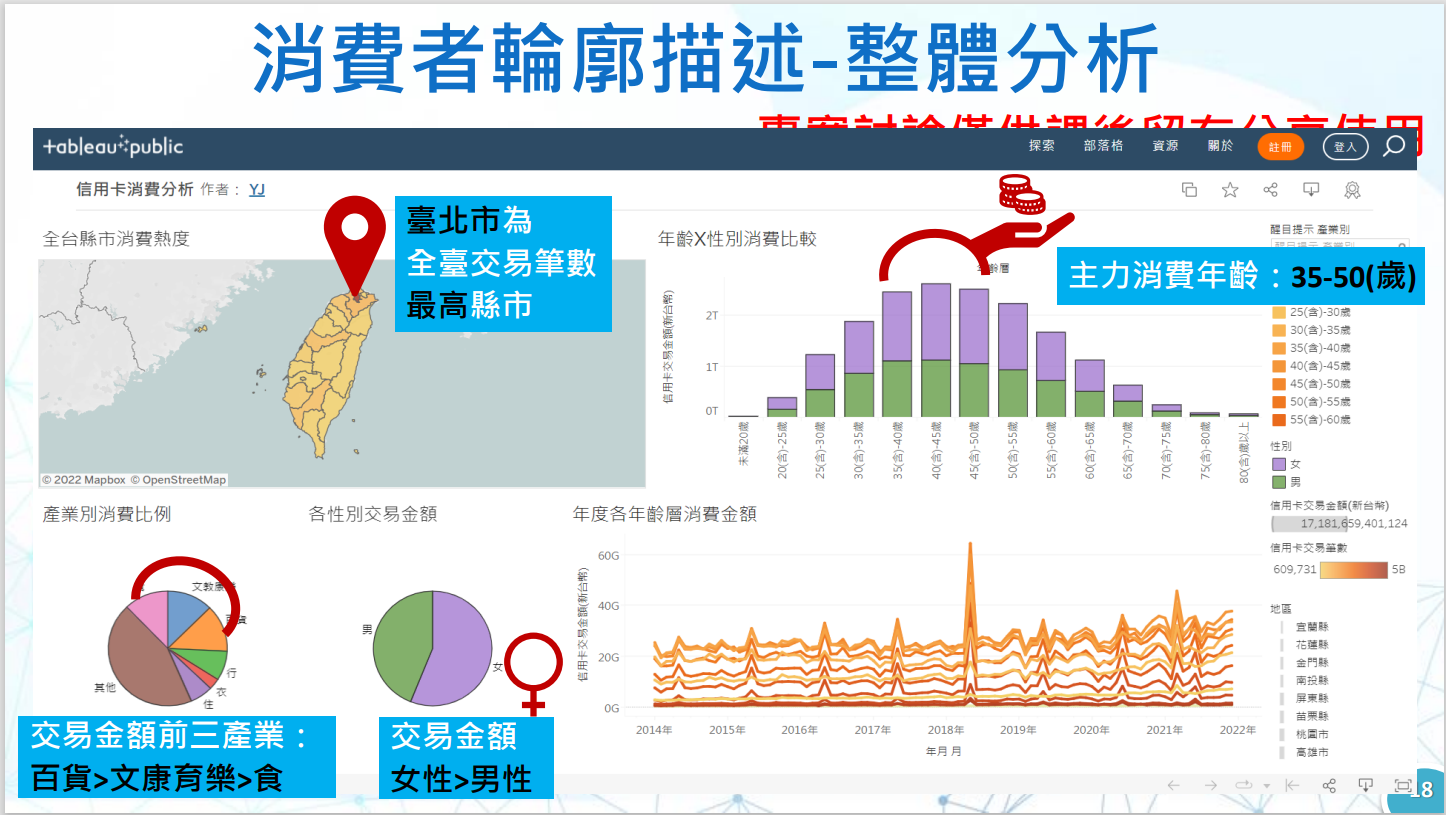

This screenshot's page, from the dashboard's own definition file:
{"tool":"tableau","page":{"name":"儀表板窗格 1","canvas":[1000,1000],"units":"permille","ordinal":0},"visuals":[{"type":"worksheet","title":"全台縣市消費熱度","mark":"Multipolygon","box":[4.8,9.4,446.9,490.6]},{"type":"worksheet","title":"年齡X性別消費比較","mark":"Automatic","rows":["信用卡交易金額(新台幣)"],"cols":["年齡層"],"box":[451.7,9.4,446.9,490.6]},{"type":"highlighter","title":"產業別消費比例","param":"[federated.0g2oetc1v2s88r16os5ns0wi0wuw].[none:產業別:nk]","box":[898.6,9.4,96.6,65.7]},{"type":"legend","title":"年度各年齡層消費金額","param":"[federated.0g2oetc1v2s88r16os5ns0wi0wuw].[none:年齡層:nk]","box":[898.6,75.1,96.6,342.7]},{"type":"legend","title":"年齡X性別消費比較","param":"[federated.0g2oetc1v2s88r16os5ns0wi0wuw].[none:性別:nk]","box":[898.6,417.8,96.6,84.5]},{"type":"worksheet","title":"產業別消費比例","mark":"Pie","box":[4.8,500,192.8,490.6]},{"type":"worksheet","title":"各性別交易金額","mark":"Pie","box":[197.6,500,192.2,490.6]},{"type":"worksheet","title":"年度各年齡層消費金額","mark":"Automatic","rows":["信用卡交易金額(新台幣)"],"cols":["年月"],"box":[389.8,500,508.8,490.6]},{"type":"legend","title":"各性別交易金額","param":"[federated.0g2oetc1v2s88r16os5ns0wi0wuw].[sum:信用卡交易金額(新台幣):qk]","box":[898.6,502.4,96.6,59.9]},{"type":"legend","title":"全台縣市消費熱度","param":"[federated.0g2oetc1v2s88r16os5ns0wi0wuw].[sum:信用卡交易金額(新台幣):qk]","box":[898.6,562.2,96.6,85.7]},{"type":"legend","title":"全台縣市消費熱度","param":"[federated.0g2oetc1v2s88r16os5ns0wi0wuw].[none:地區:nk]","box":[898.6,647.9,96.6,342.7]}]}

Visuals, with their boxes on the dashboard's canvas, which has no fixed pixel size, in thousandths of its width and height (x1, y1, x2, y2). These are canvas units, not pixel positions in the 1446x815 screenshot, which may show the page scaled, cropped or inside an application window:
"全台縣市消費熱度" worksheet (Multipolygon marks): pyautogui.locateOnScreen(5, 9, 452, 500)
"年齡X性別消費比較" worksheet: pyautogui.locateOnScreen(452, 9, 899, 500)
"產業別消費比例" highlighter: pyautogui.locateOnScreen(899, 9, 995, 75)
"年度各年齡層消費金額" legend: pyautogui.locateOnScreen(899, 75, 995, 418)
"年齡X性別消費比較" legend: pyautogui.locateOnScreen(899, 418, 995, 502)
"產業別消費比例" worksheet (Pie marks): pyautogui.locateOnScreen(5, 500, 198, 991)
"各性別交易金額" worksheet (Pie marks): pyautogui.locateOnScreen(198, 500, 390, 991)
"年度各年齡層消費金額" worksheet: pyautogui.locateOnScreen(390, 500, 899, 991)
"各性別交易金額" legend: pyautogui.locateOnScreen(899, 502, 995, 562)
"全台縣市消費熱度" legend: pyautogui.locateOnScreen(899, 562, 995, 648)
"全台縣市消費熱度" legend: pyautogui.locateOnScreen(899, 648, 995, 991)
